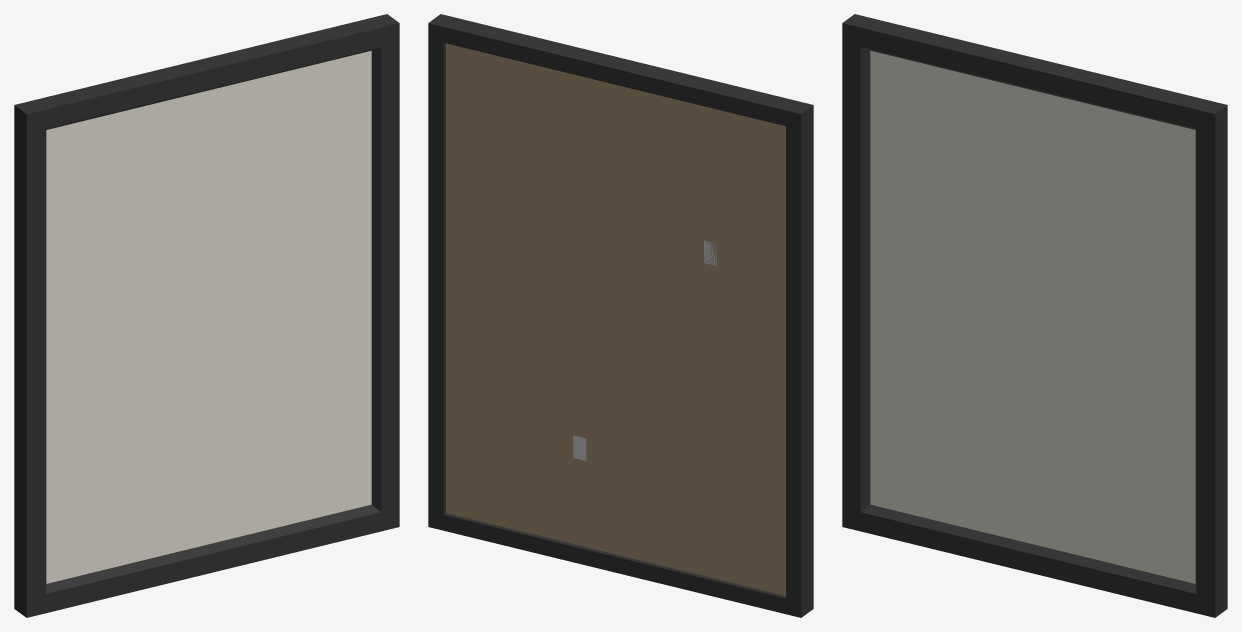
The model's file is custom-poster-30x40.glb.
The picture shows the model from 3 angles, left to right: view 1: azimuth 30°, elevation 25°; view 2: azimuth 150°, elevation 25°; view 3: azimuth 330°, elevation 25°; orthographic projection.
Visible parts, largest first — view 1: LAWHA 30x40; view 2: LAWHA 30x40; view 3: LAWHA 30x40.
Part boxes in pixels (x1,y1,x2,y2): LAWHA 30x40: (14, 14, 399, 617); LAWHA 30x40: (428, 14, 813, 617); LAWHA 30x40: (842, 14, 1227, 617).
Bounding box in the file's own units: 0.344 × 0.444 × 0.02.
Materials: 4 (1 with a texture image).
